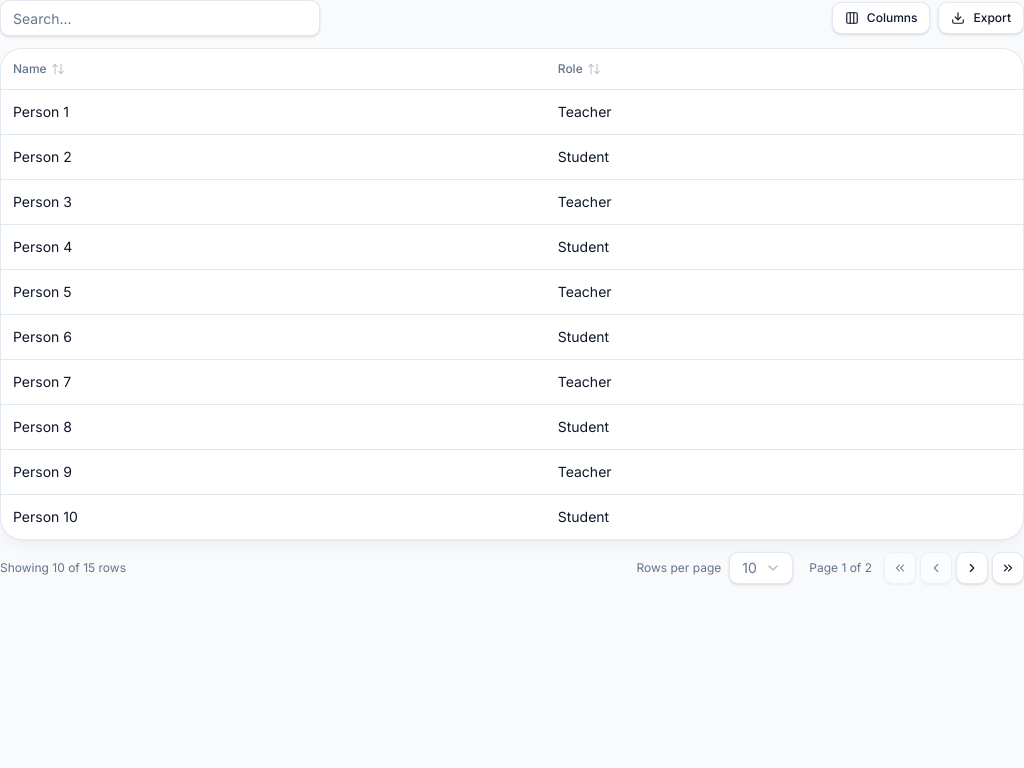
DataTable — pagination › changing the page size shows more rows per page
Expected: the text "Page 1 of 2" is shown, [809,560,872,576]
Rows-per-page select trigger currently shows "10"
What coordinates should you click on to do the following:
click the dropdown
I would click on:
 (761, 568)
Its box is [729,552,793,584].
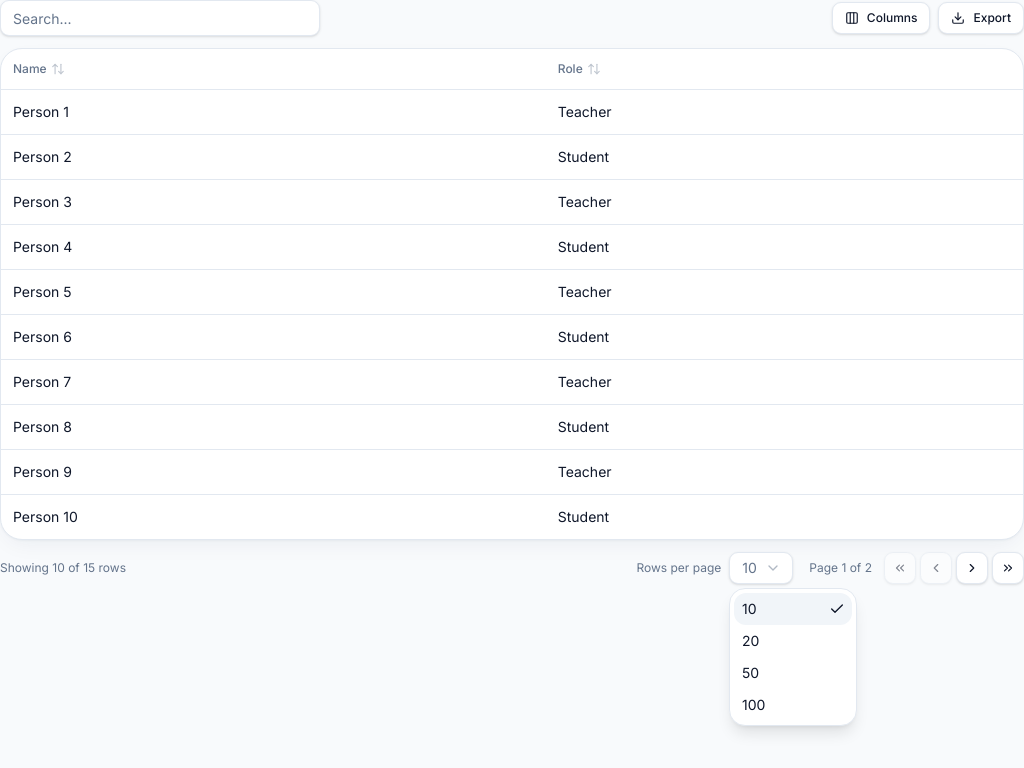
What coordinates should you click on to do the following:
click the option "20"
I would click on:
 (751, 640)
Its box is [742,632,759,649].
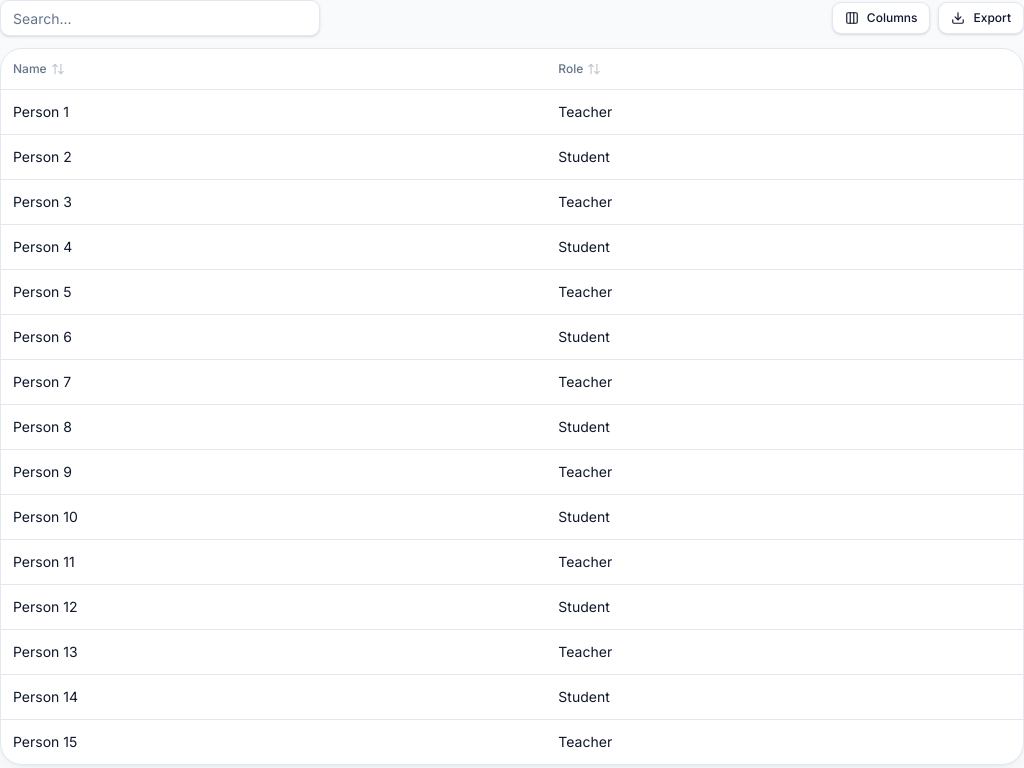
Expected: the text "Person 15" is shown, [1,719,546,764]
